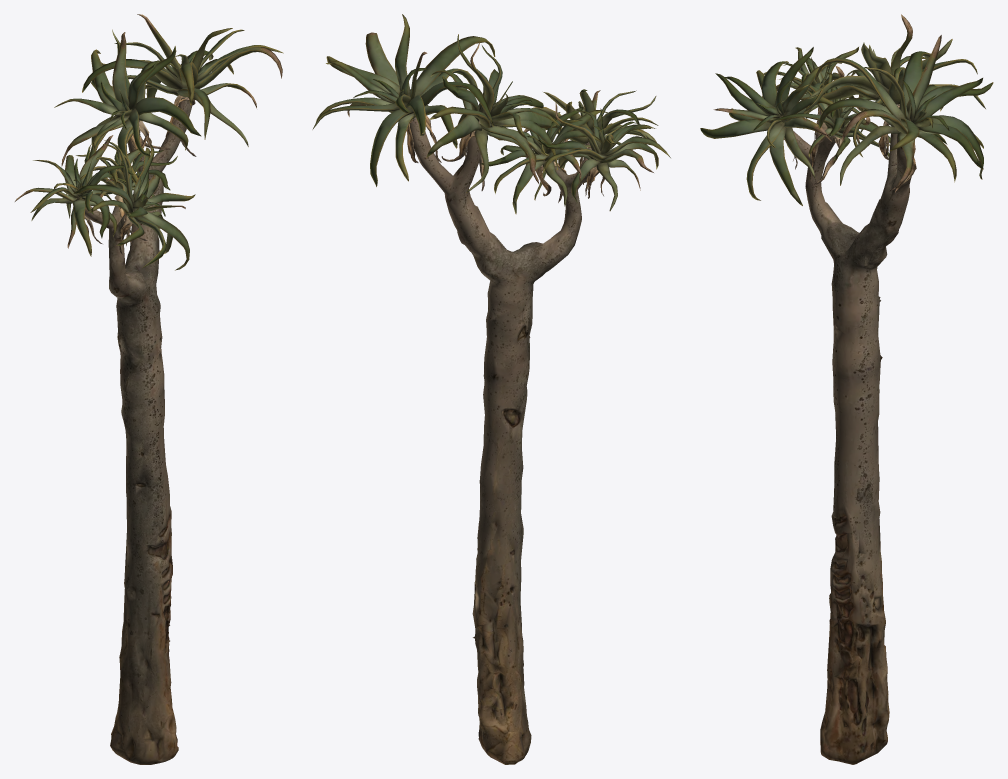
Rendered from quiver_tree_01.glb.
The picture shows the model from 3 angles, left to right: view 1: azimuth 30°, elevation 25°; view 2: azimuth 150°, elevation 25°; view 3: azimuth 270°, elevation 25°; orthographic projection. The views are drawn at different scales.
Parts seen in each view (by area): view 1: quiver_tree_01; view 2: quiver_tree_01; view 3: quiver_tree_01.
Part boxes in pixels (x1,y1,x2,y2): quiver_tree_01: (15, 14, 283, 764); quiver_tree_01: (312, 14, 670, 764); quiver_tree_01: (700, 14, 993, 764).
Bounding box in the file's own units: 1.18 × 2.72 × 0.9683.
Materials: 2 (2 with a texture image).
